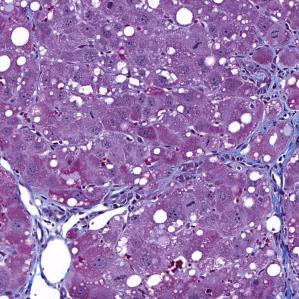fibrosis: (225, 148, 291, 210)
